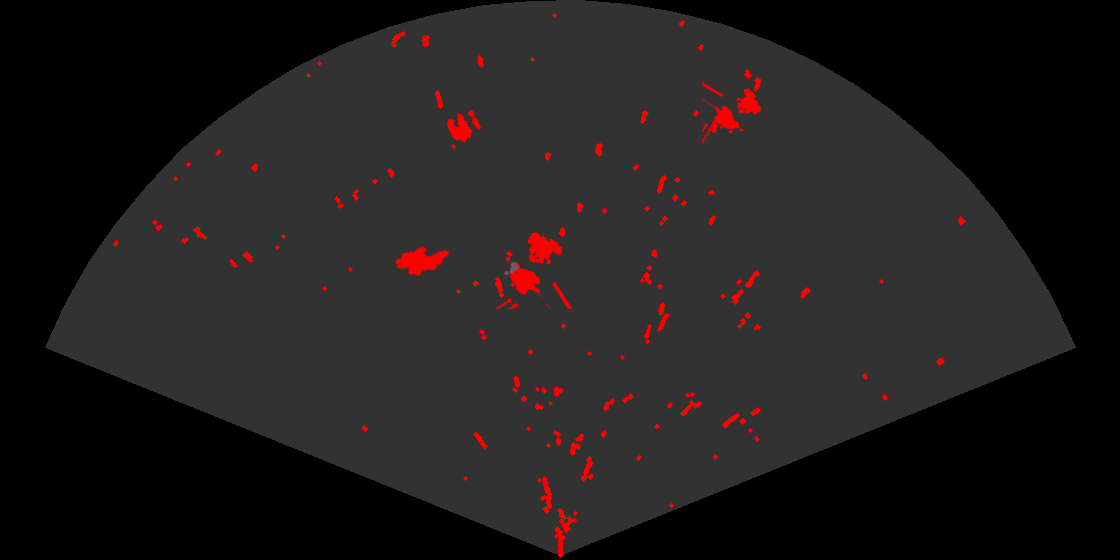AUV: (393, 245, 451, 278)
ball: (445, 108, 483, 144)
cage: (494, 231, 574, 309), (702, 80, 763, 146)
